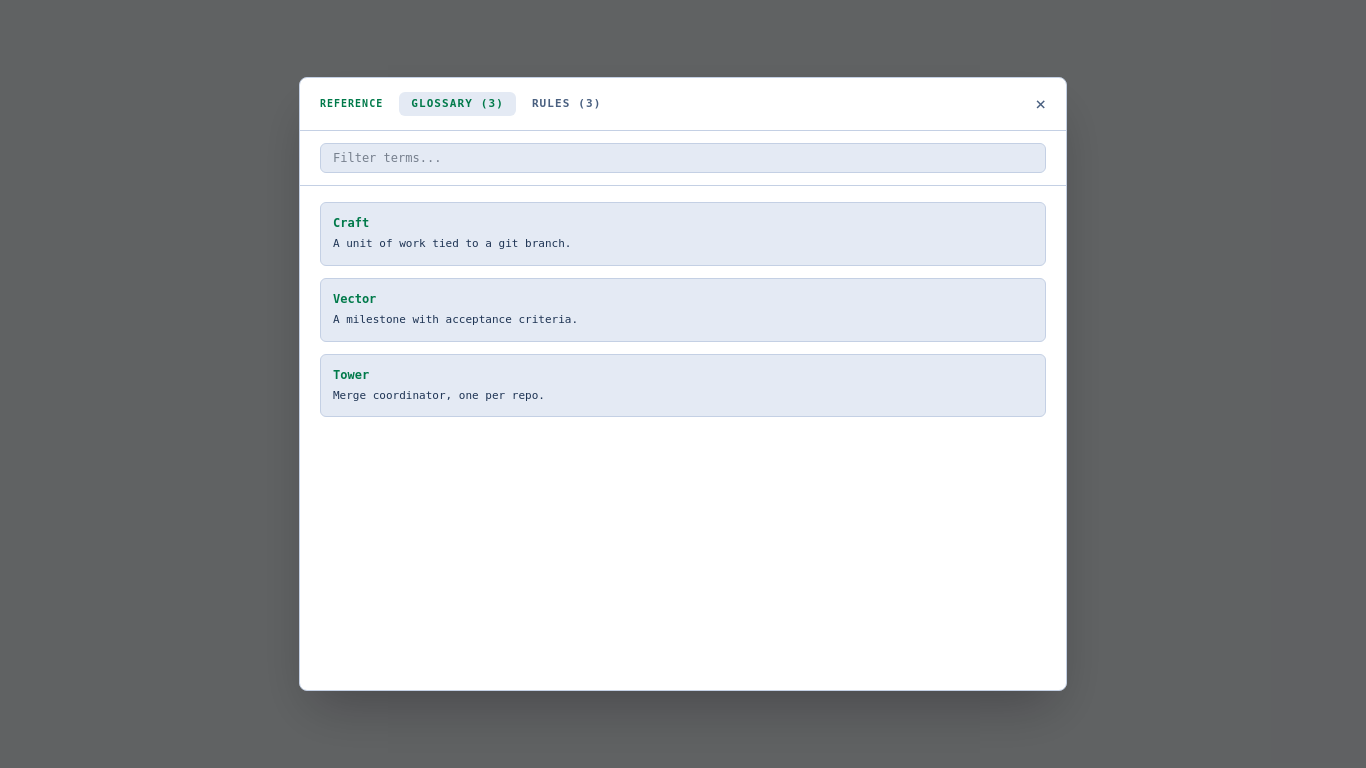
GlossaryModal › filters rules by query
Click the button "Rules (3)": coordinates (567, 104) left=520, top=92, right=613, bottom=116
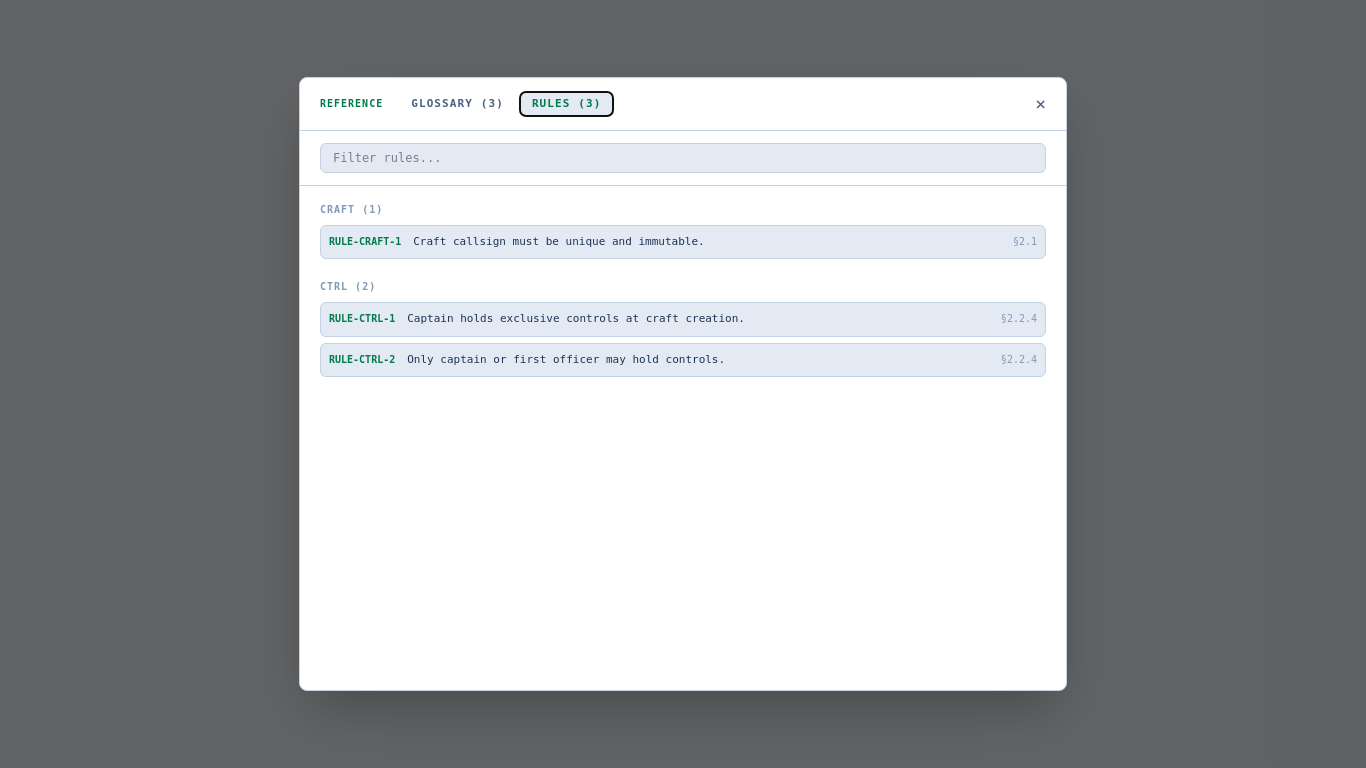
In the field labelled "Filter": coordinates (683, 158) left=320, top=143, right=1046, bottom=173, type "captain"
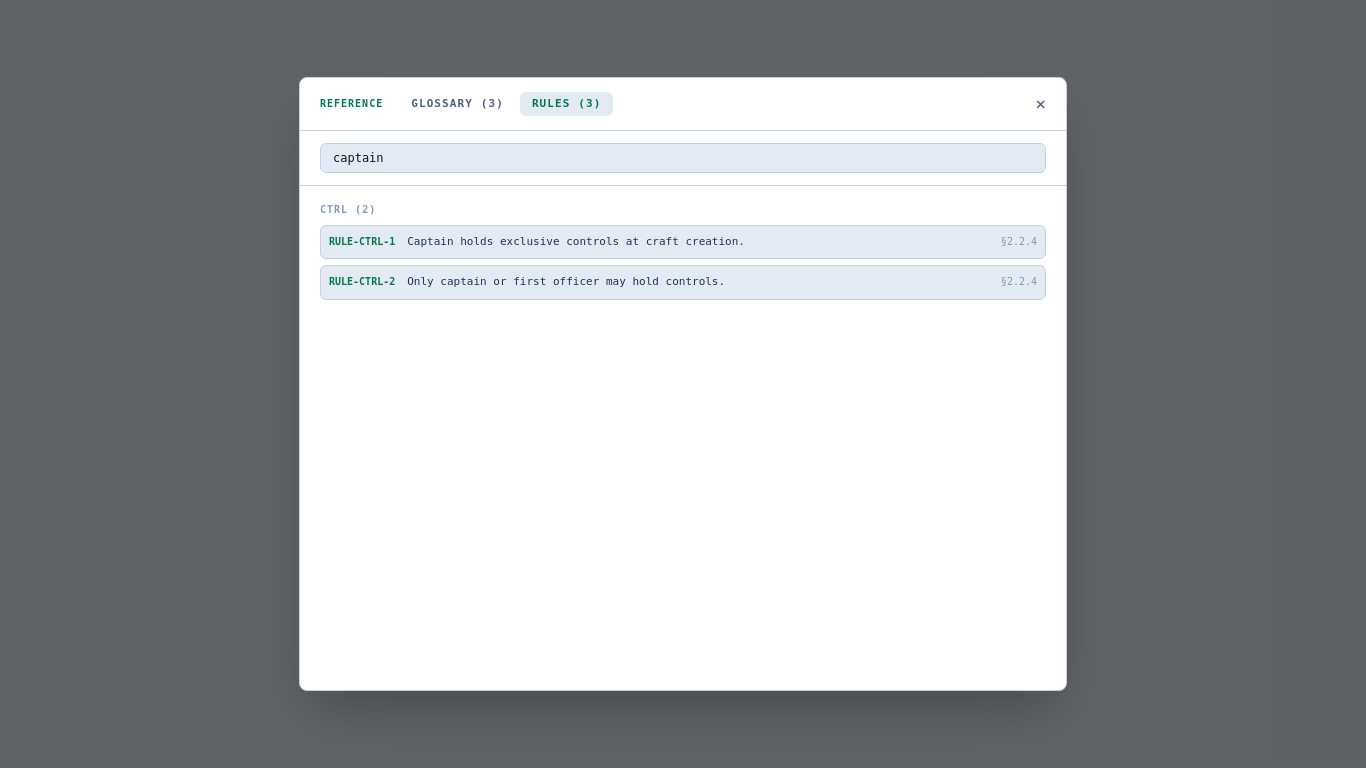
Now the text "RULE-CTRL-1" is shown, box left=329, top=234, right=395, bottom=250
Now the text "RULE-CRAFT-1" is gone
